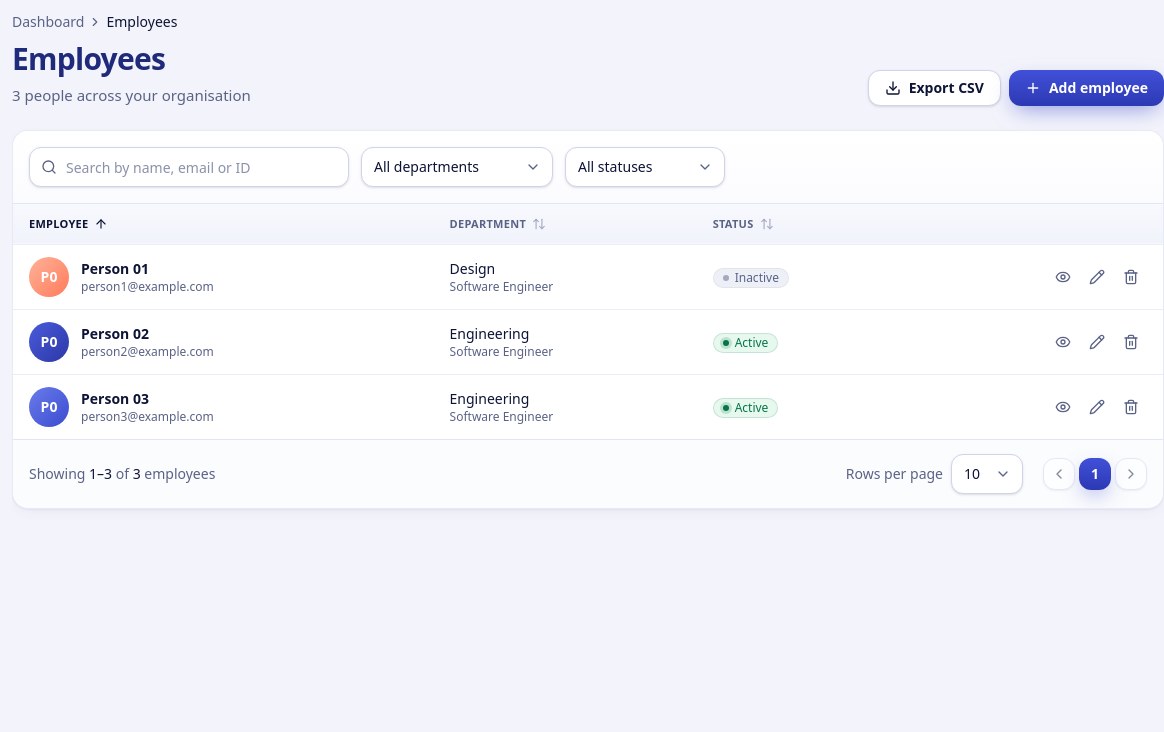
Test: <EmployeeDirectory> › does not lose characters typed while the URL update for earlier characters is still in flight
Step 1. Type "per" into the search field named "Search employees" → (189, 167), box x1=29 y1=147 x2=349 y2=187
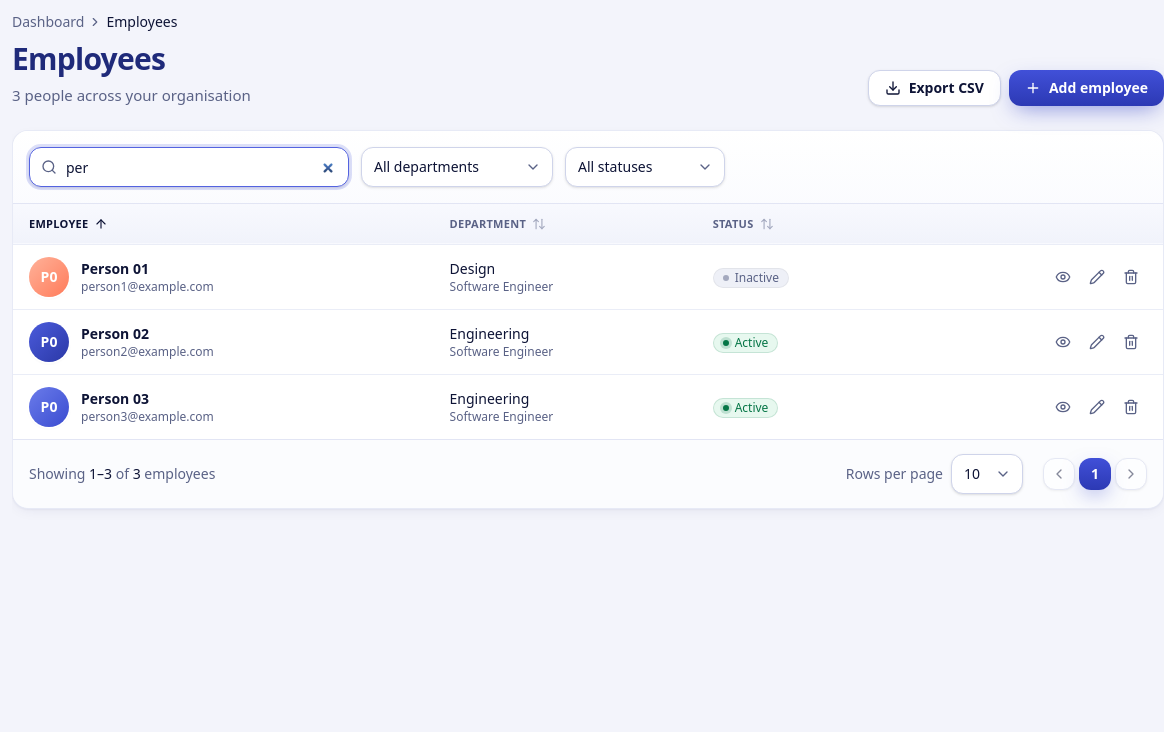
Step 2. Type "son" into the search field named "Search employees" → (189, 167), box x1=29 y1=147 x2=349 y2=187
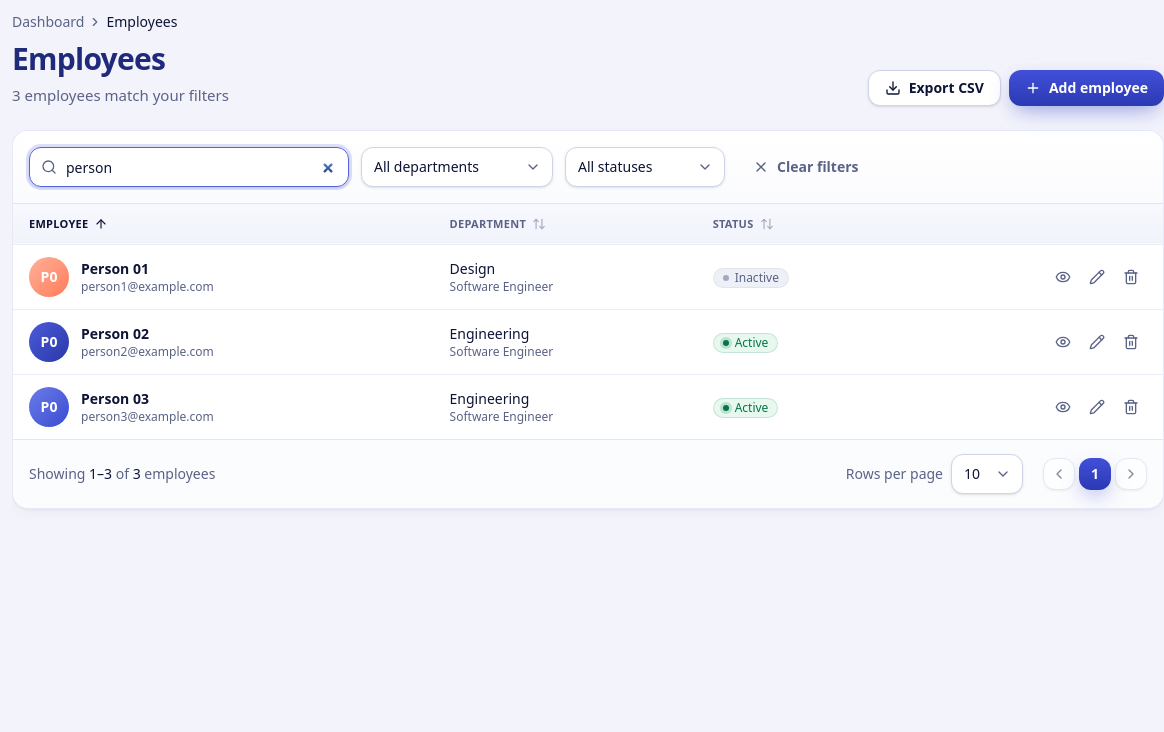
Check: the search field named "Search employees" holds "person", box x1=29 y1=147 x2=349 y2=187
